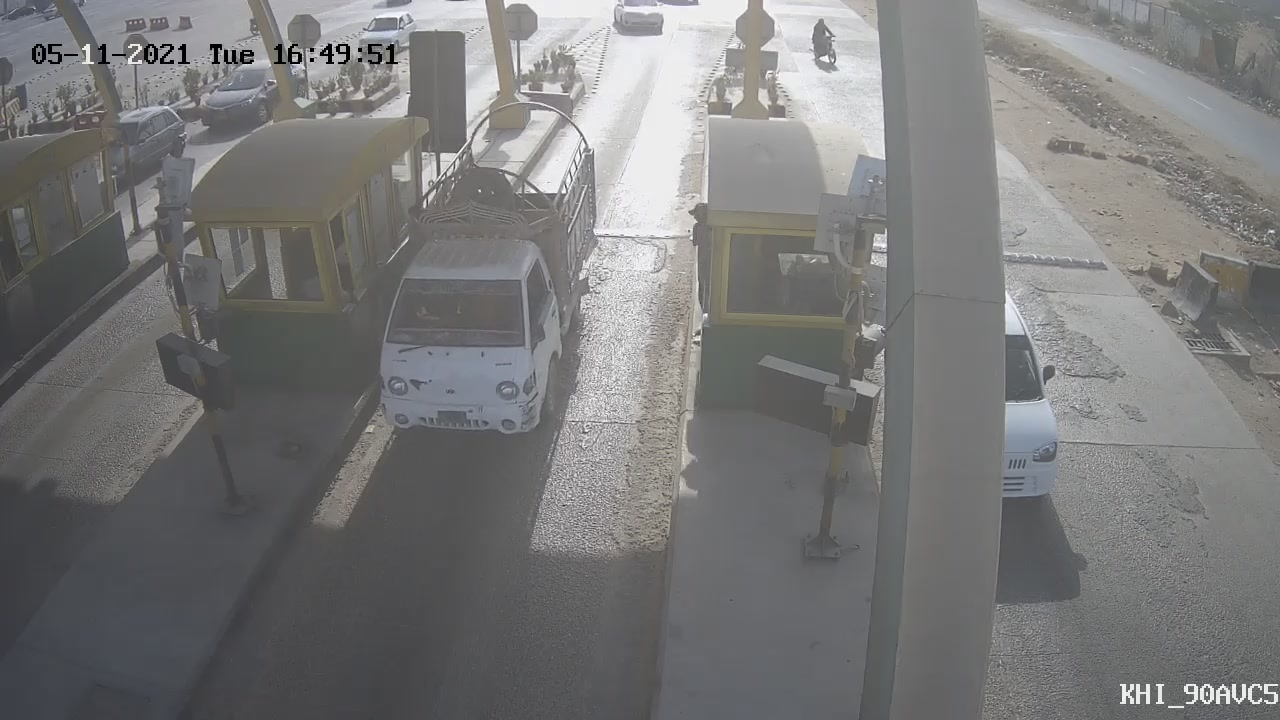F2: (363, 85, 614, 453)
